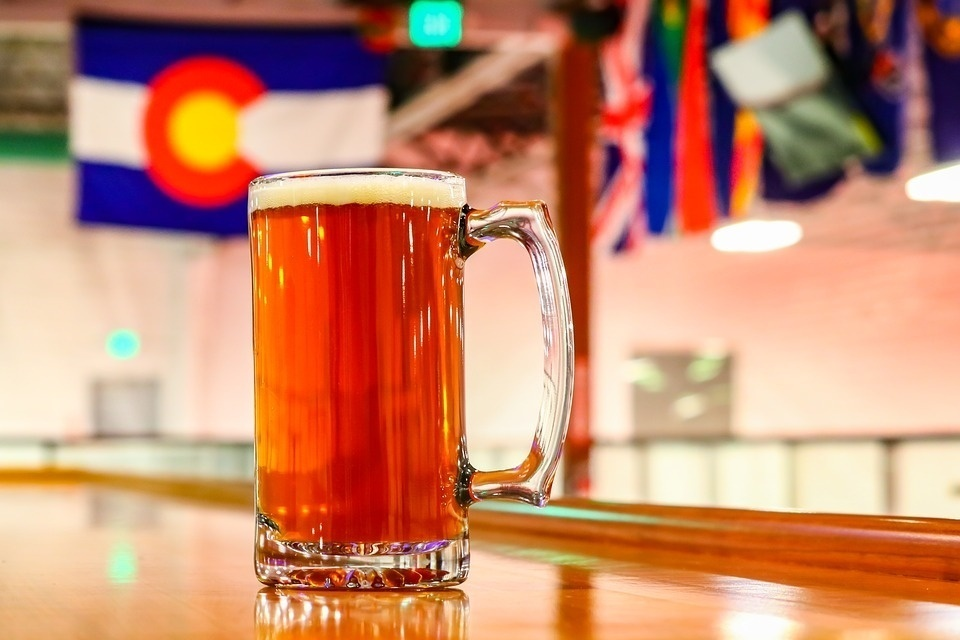whiskey: (263, 165, 472, 590)
